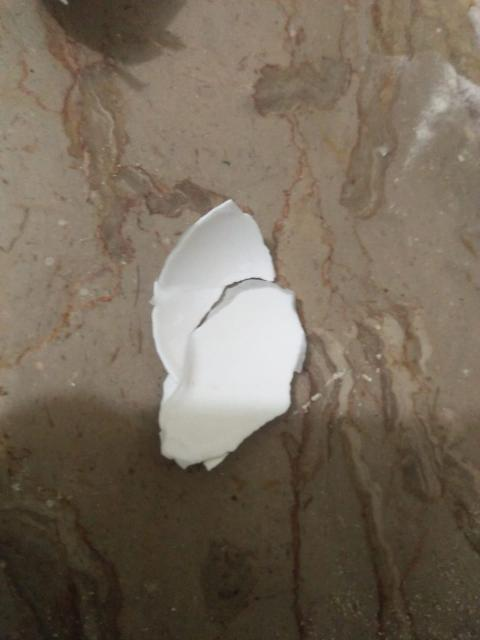Roto: (148, 198, 308, 472)
